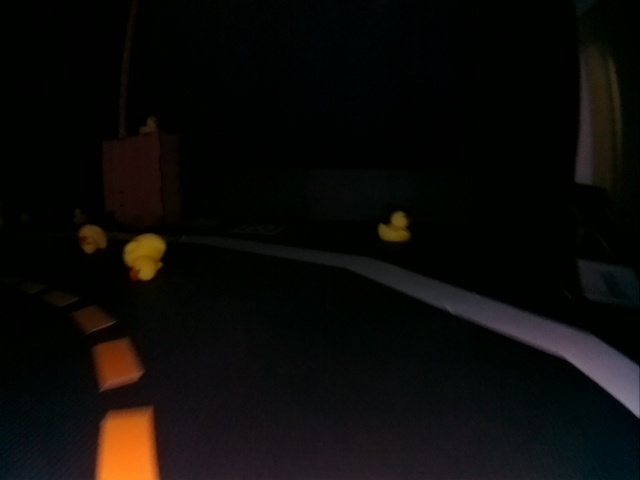Duckie: (122, 233, 167, 281), (377, 215, 414, 243), (77, 225, 103, 250), (138, 117, 157, 133), (72, 208, 86, 222)
QR code: (232, 224, 289, 235)
